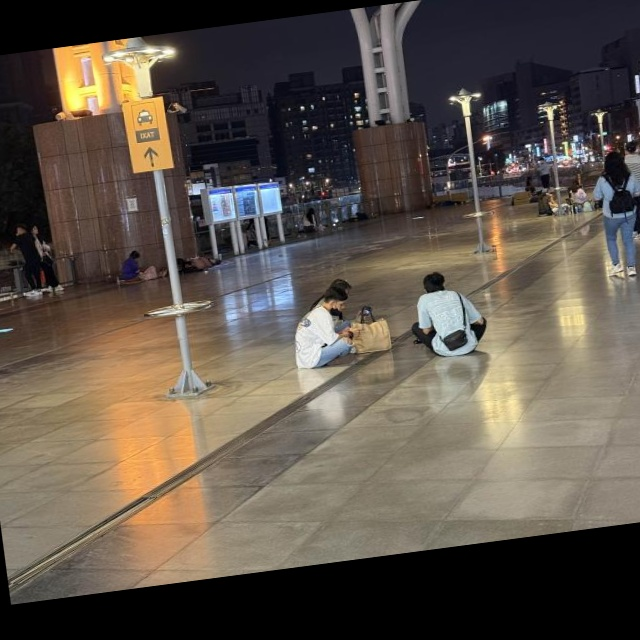Sin_Casco_Mascarrilla: (324, 285, 349, 314), (422, 270, 446, 292), (330, 277, 352, 296), (604, 150, 624, 170)
Sin_Chaleco: (425, 290, 467, 356)
